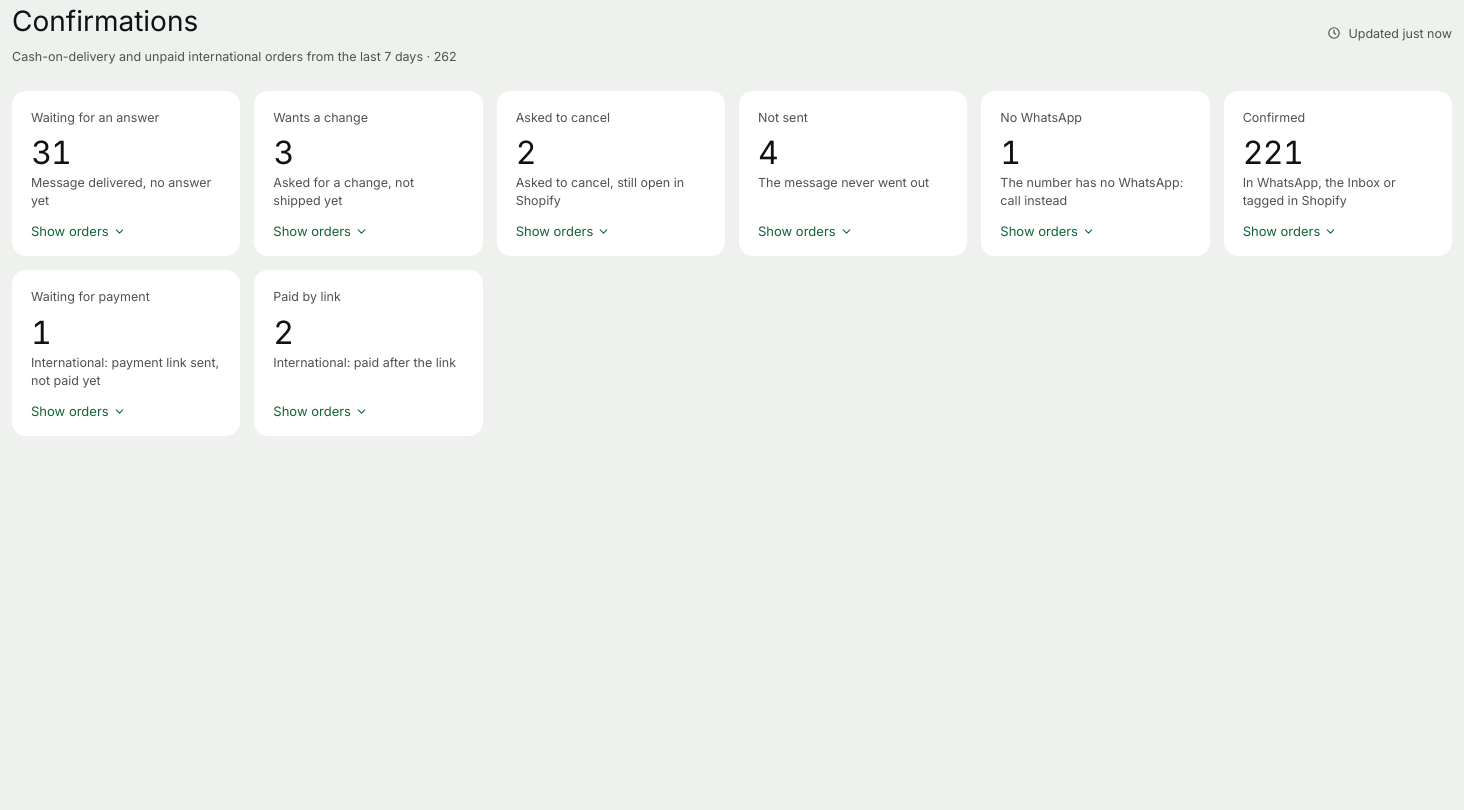
Inbox → Confirmations (ADR 0059) › lists international orders waiting for payment, and the ones unpaid for 3 days (ADR 0062)
The width and height of the screenshot is (1464, 810).
Expected: the button "Paid by link" shows "2", [254,270,483,436]
What coordinates should you click on to do the following:
click the button "Waiting for payment"
I would click on:
 (126, 353)
Its box is [12,270,240,436].
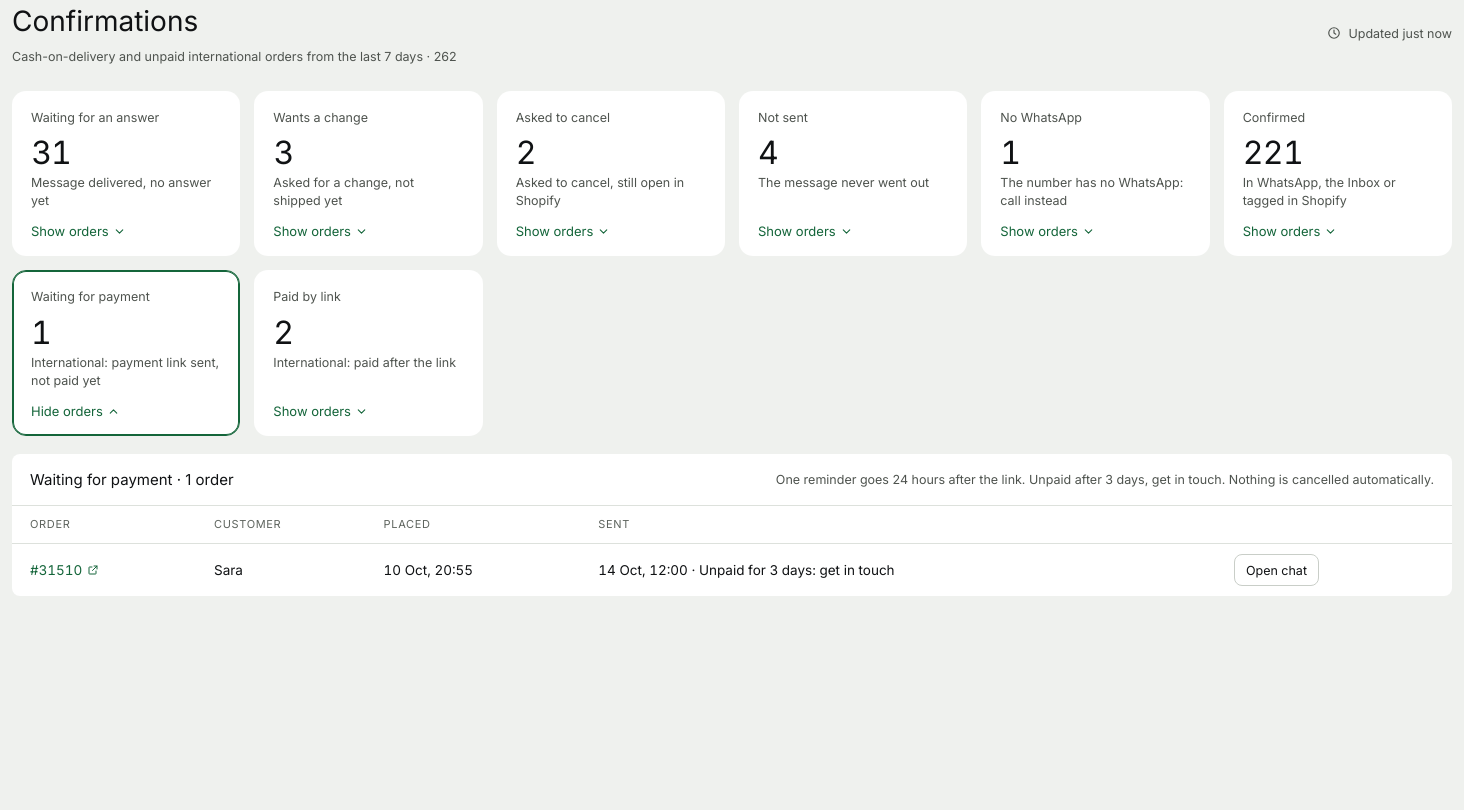
Result: the heading "Waiting for payment · 1 order" is shown at [30,468,234,492]
Result: the text "Nothing is cancelled automatically" is shown at [776,472,1434,487]
Result: the text "Sara" shows "Unpaid for 3 days: get in touch" at [598,562,895,578]
